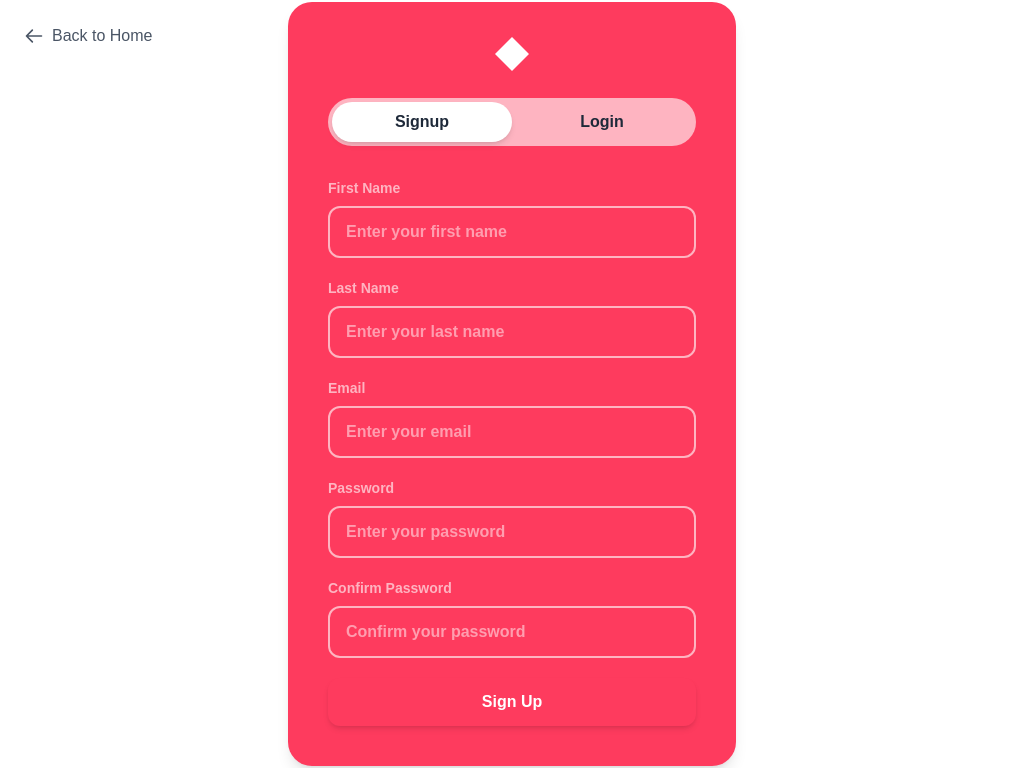
Test: RegisterPage › TC-085 [S-01]: shows a generic error message when the request fails outright
In the field labelled "First Name": (512, 232) [328,206,696,258], type "Jane"
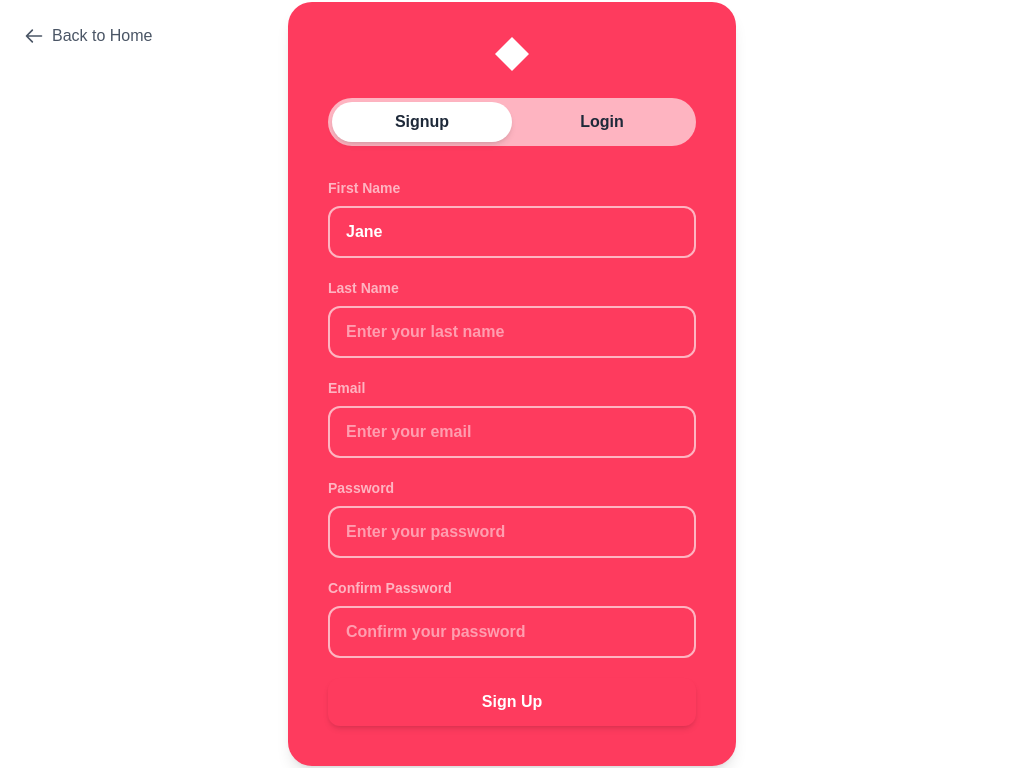
In the field labelled "Last Name": (512, 332) [328,306,696,358], type "Doe"
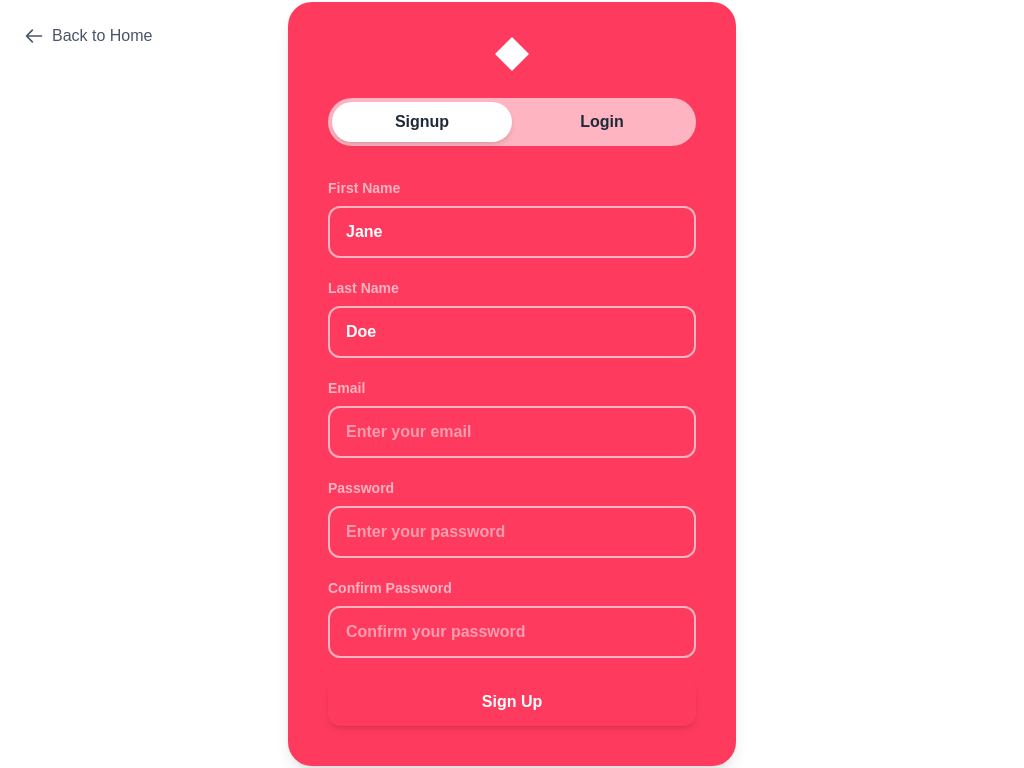
In the field labelled "Email": (512, 432) [328,406,696,458], type "jane@school.edu"
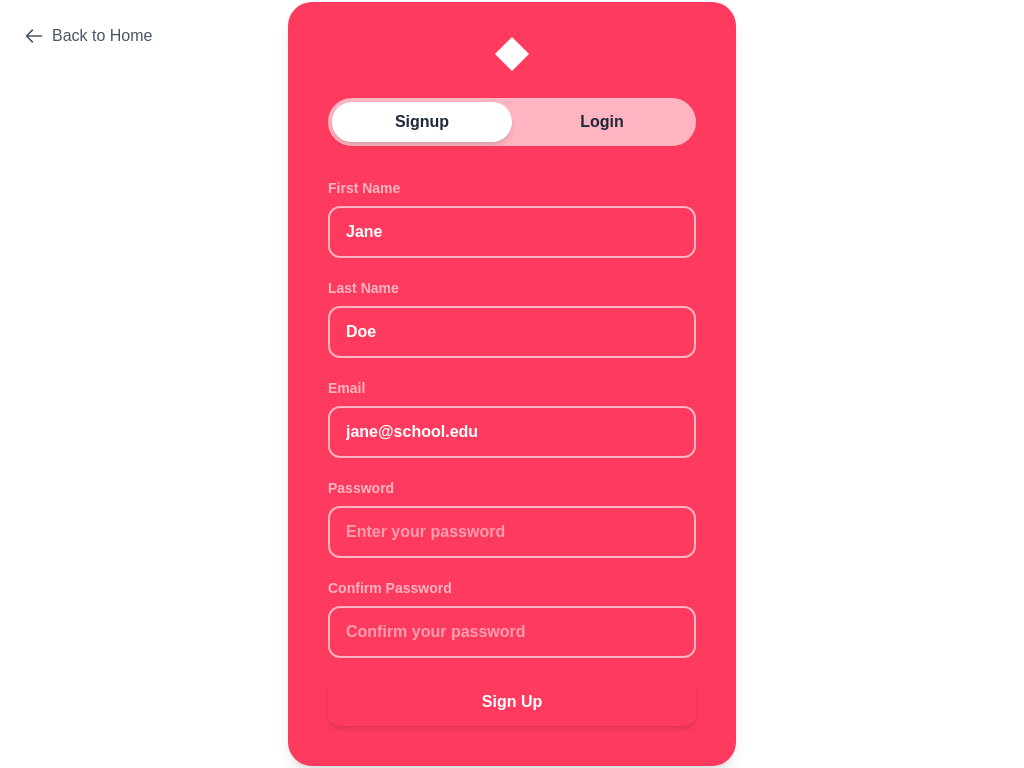
In the password field labelled "Password": (512, 532) [328,506,696,558], type "Valid123!"
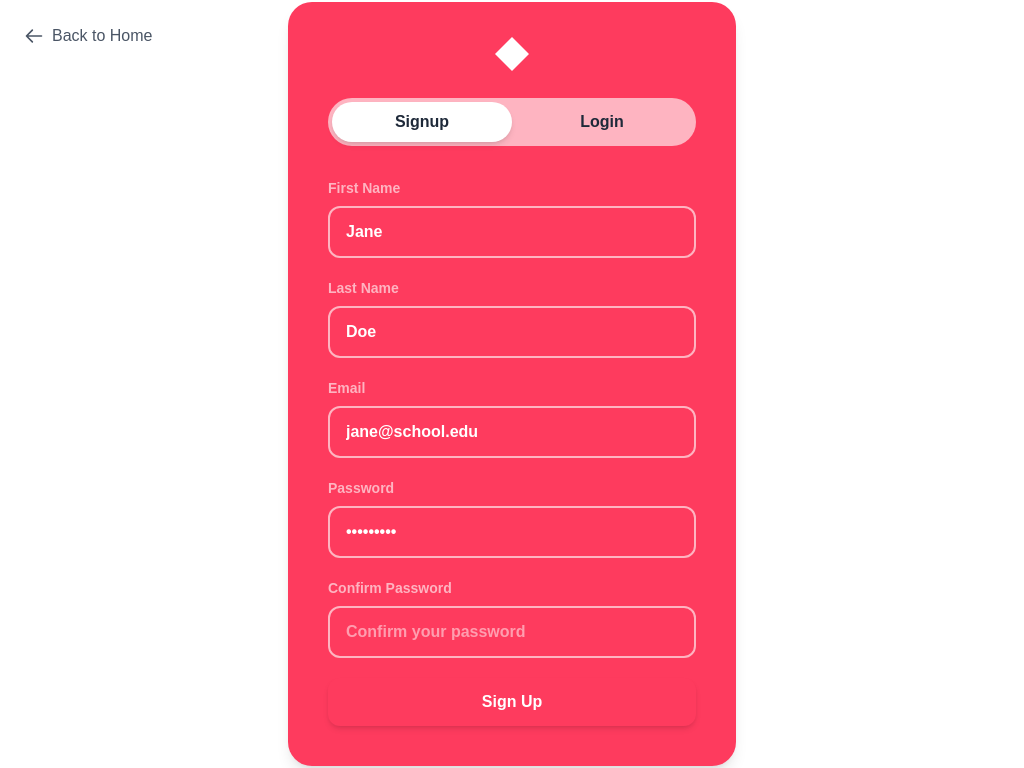
In the password field labelled "Confirm Password": (512, 632) [328,606,696,658], type "Valid123!"
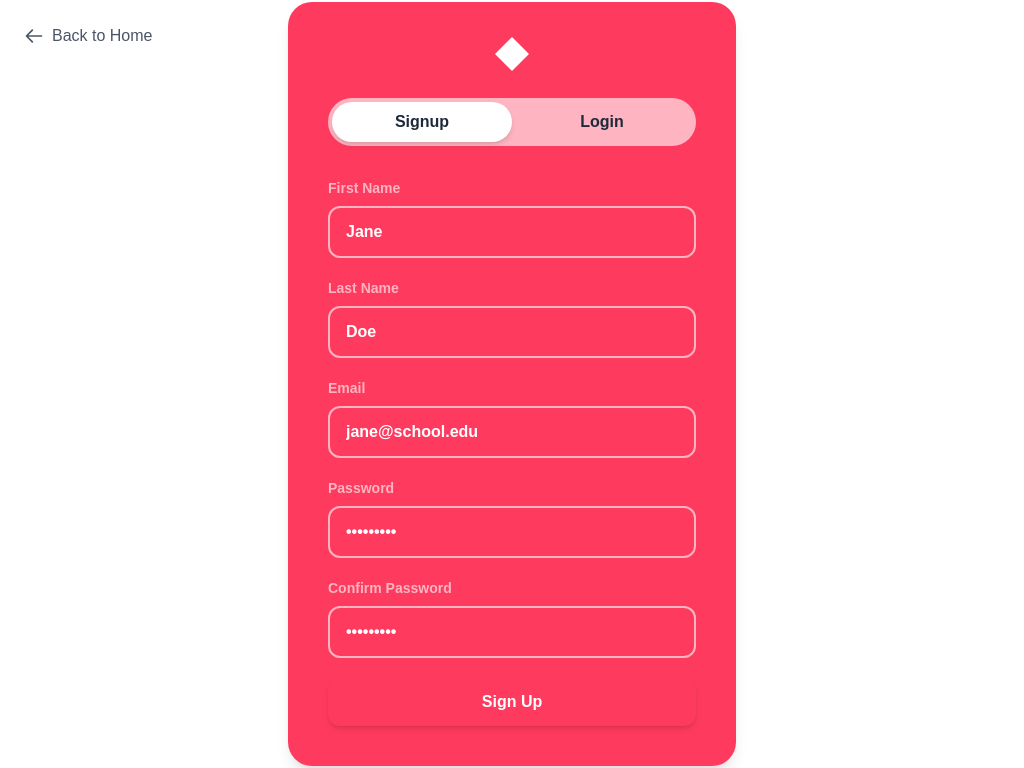
Click the button "Sign Up": (512, 702) [328,678,696,726]
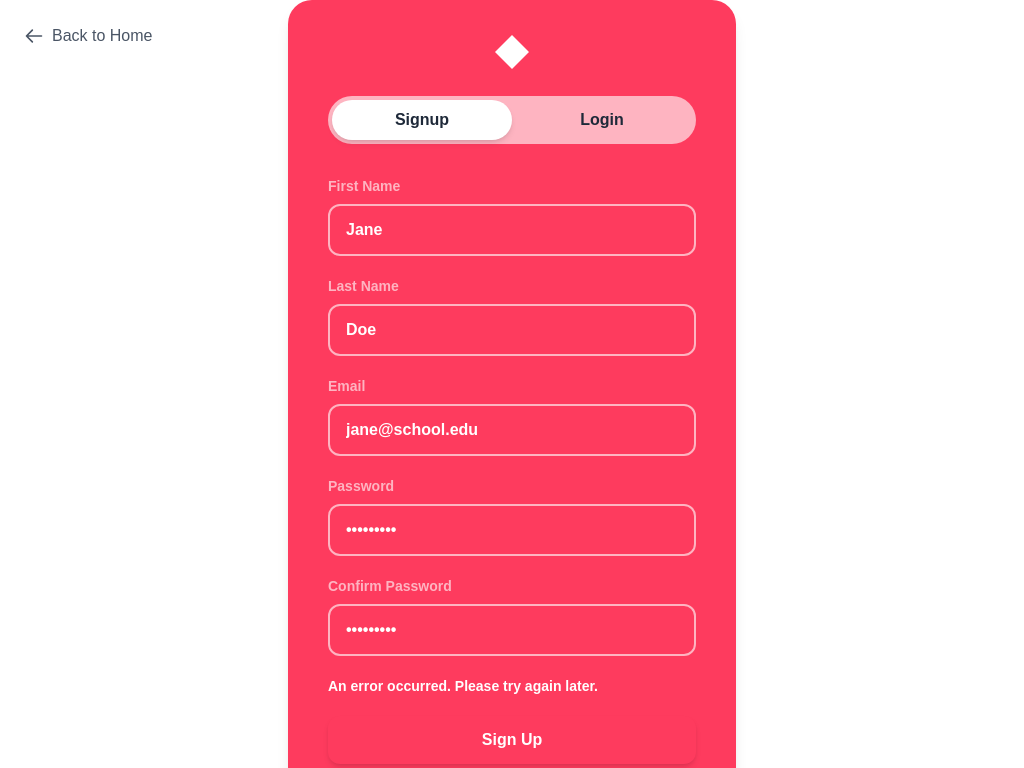
expect the text "An error occurred. Please try again later." is shown: met, box [328,678,598,694]
